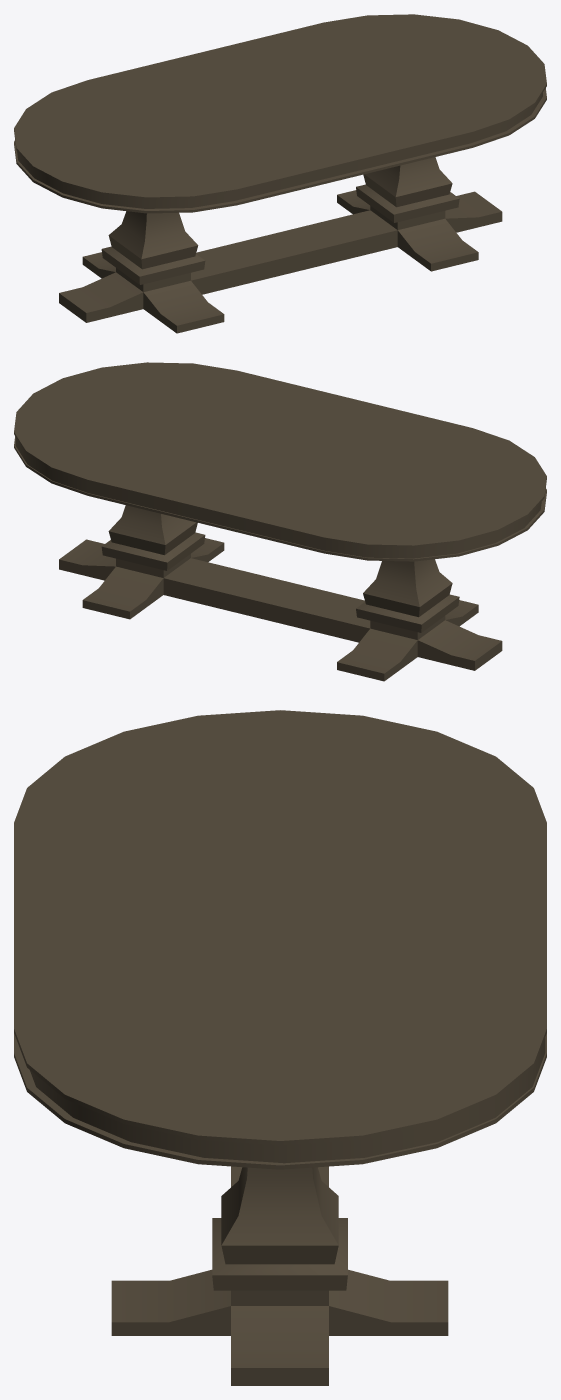
The model's file is Q_TableRound.glb.
3 views of the same model, one above another, from view 1: azimuth 30°, elevation 25°; view 2: azimuth 150°, elevation 25°; view 3: azimuth 270°, elevation 25° (orthographic). The views are drawn at different scales.
Parts seen in each view (by area): view 1: Table_RoundLarge; view 2: Table_RoundLarge; view 3: Table_RoundLarge.
Boxes of the visible parts, bbox=[...] form: Table_RoundLarge: bbox=[14, 14, 546, 333]; Table_RoundLarge: bbox=[14, 362, 546, 681]; Table_RoundLarge: bbox=[14, 710, 546, 1385].
Bounding box in the file's own units: 3.71 × 1.12 × 1.94.
